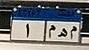1: (24, 22, 32, 39)
haa: (57, 27, 68, 40)
meem: (69, 24, 78, 41), (48, 24, 56, 40)
